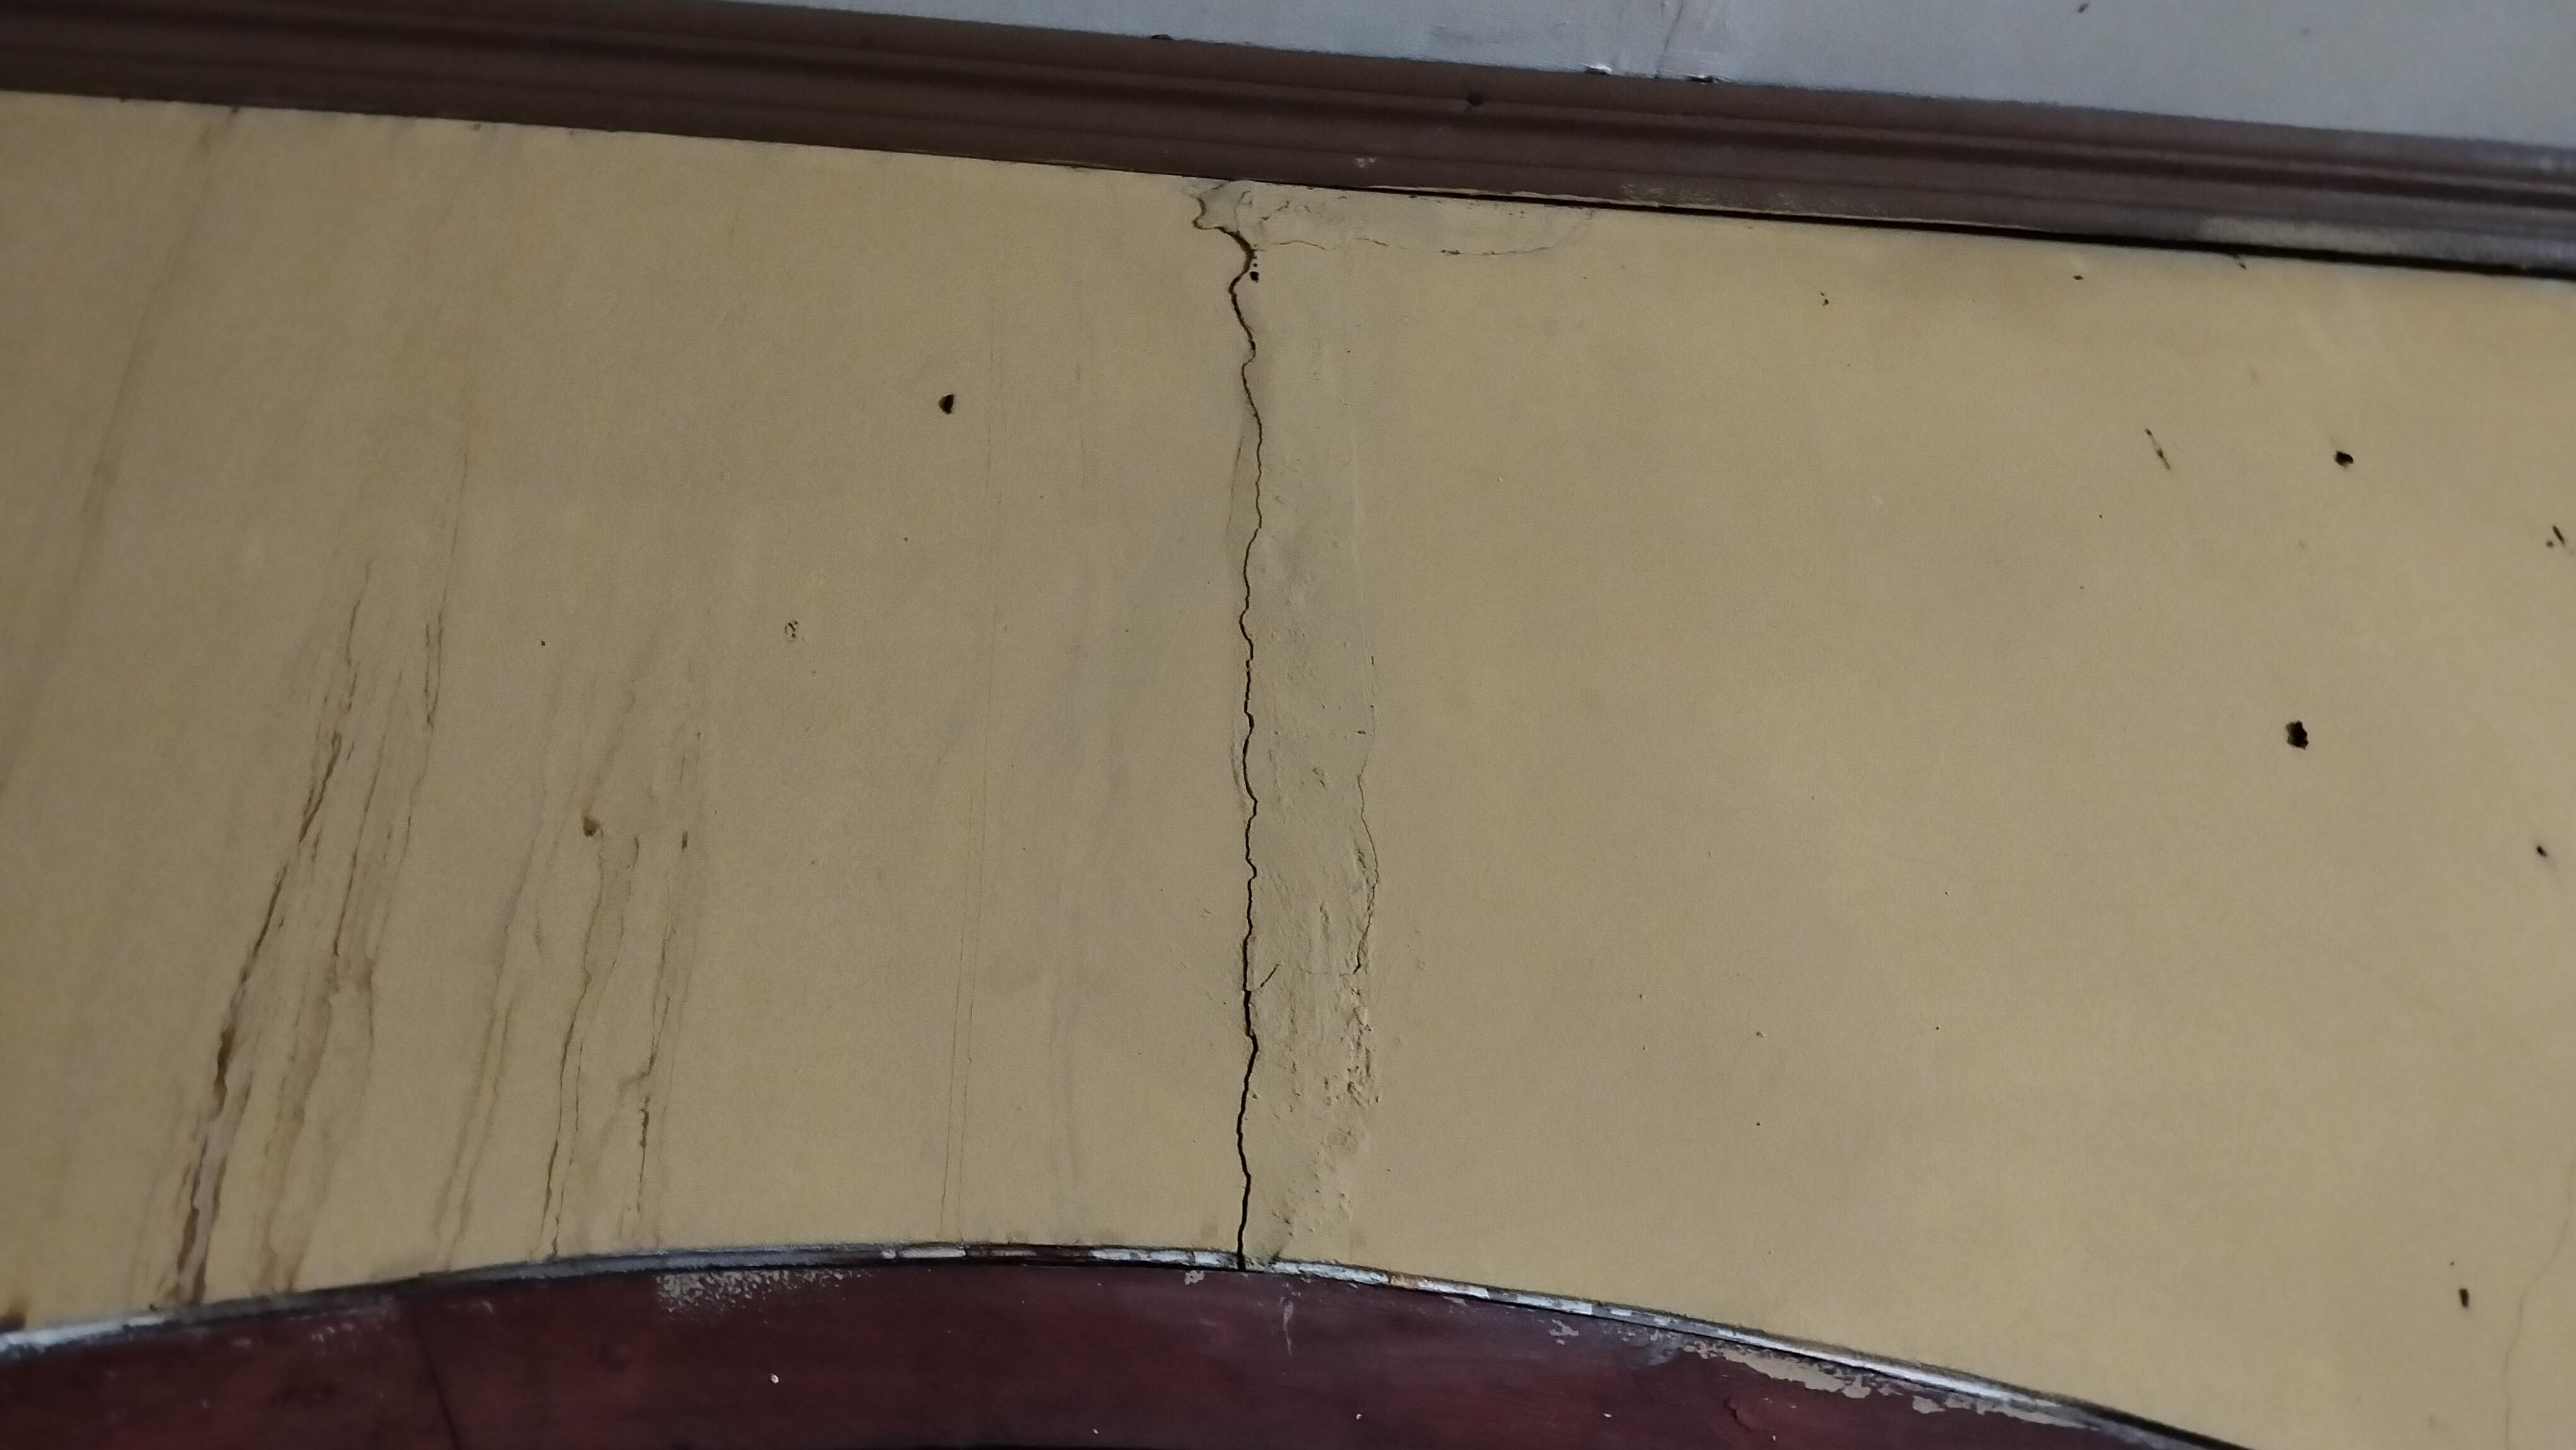Crack: (1164, 170, 1309, 1282), (1329, 737, 1414, 1137)
